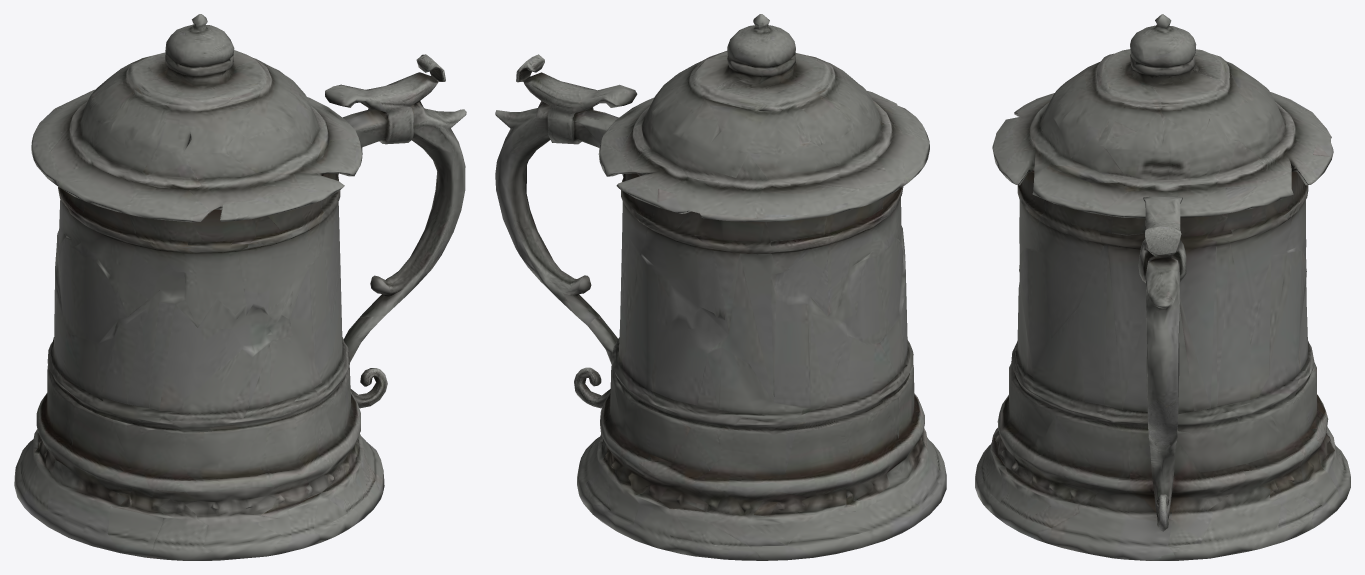
The model's file is tankard.glb.
3 views of the same model, side by side, from view 1: azimuth 30°, elevation 25°; view 2: azimuth 150°, elevation 25°; view 3: azimuth 270°, elevation 25° (orthographic).
Visible parts, largest first — view 1: Mesh_0; view 2: Mesh_0; view 3: Mesh_0.
Boxes of the visible parts, x1,y1,x2,y2 form: Mesh_0: (14,14,466,560); Mesh_0: (495,14,946,560); Mesh_0: (975,14,1350,560).
Size of the model in its own units: 1.81 by 1.9 by 1.38.
Materials: 1 (1 with a texture image).
